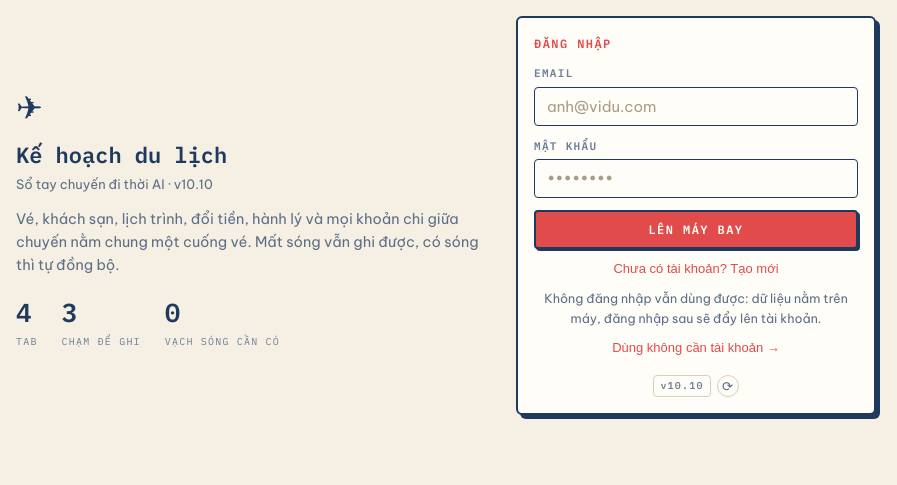
Test: màn đăng nhập · hai chế độ trên một form › tạo xong nhưng chờ xác nhận email → hiện lời dặn và TỰ quay về chế độ đăng nhập
This screenshot has width=897, height=485.
Click the button with class "dn__lien-ket" showing "Chưa có tài khoản? Tạo mới". click: (696, 269)
box: [534,261,858,276]
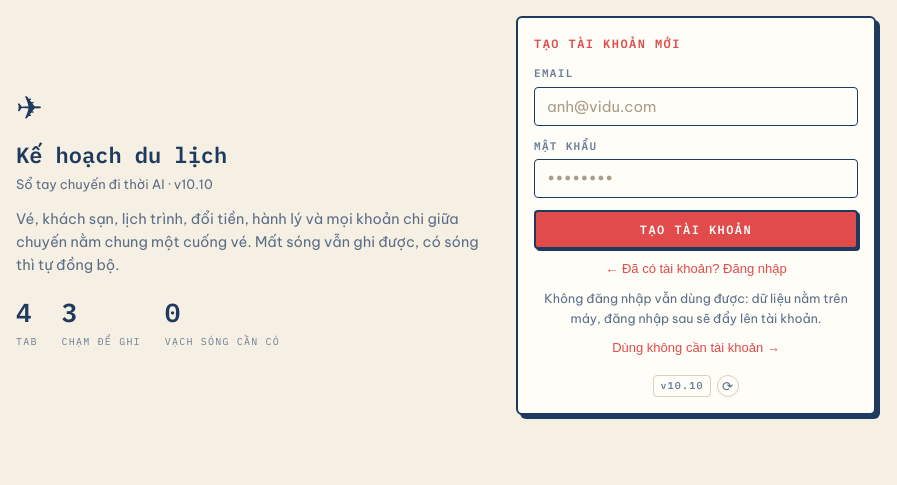
Type "phu@vidu.com" into the field with placeholder "anh@vidu.com". click: (696, 106)
box: [534,87,858,126]
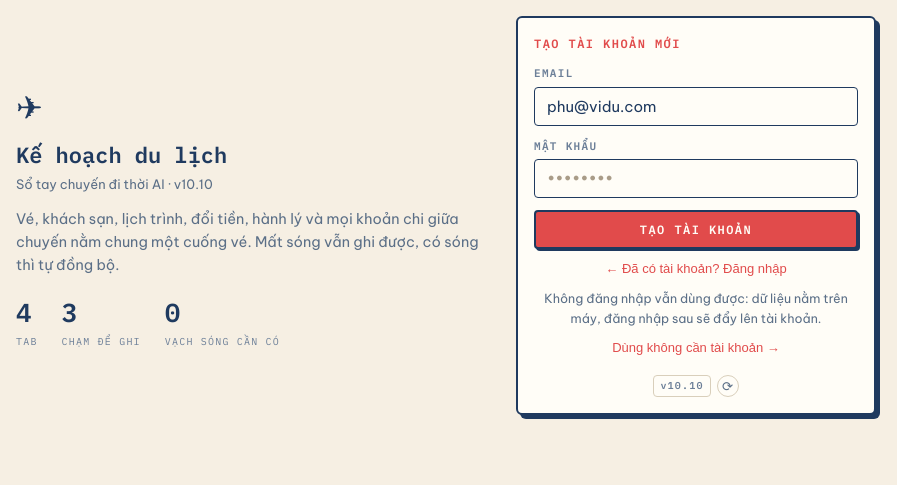
Type "mk" into the password field with placeholder "••••••••". click: (696, 179)
box: [534,159,858,198]
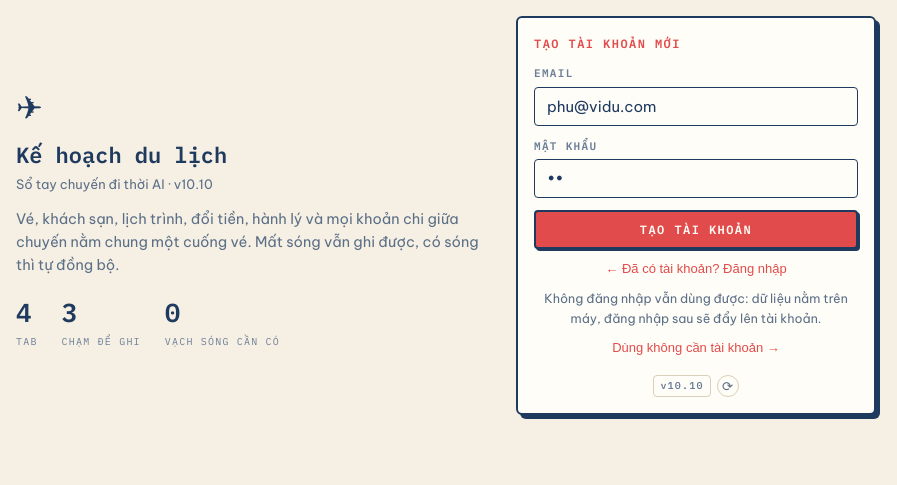
Click the button with class "nut--chinh". click: (696, 230)
box: [534,210,858,249]
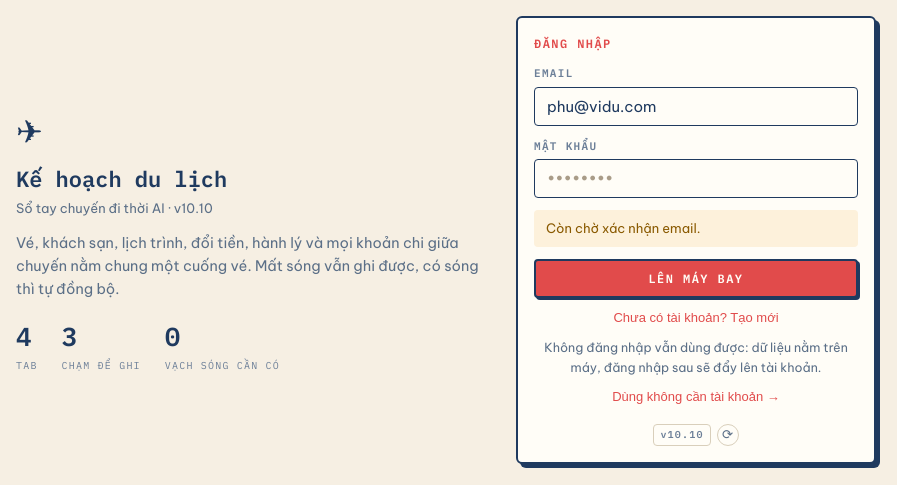
Now the text "Còn chờ xác nhận email." is shown, box [534,210,858,246]
Now the text with class "dn__bao" shows "xác nhận", box [546,220,700,236]
Now the button with class "nut--chinh" reads "Lên máy bay", box [534,258,858,298]
